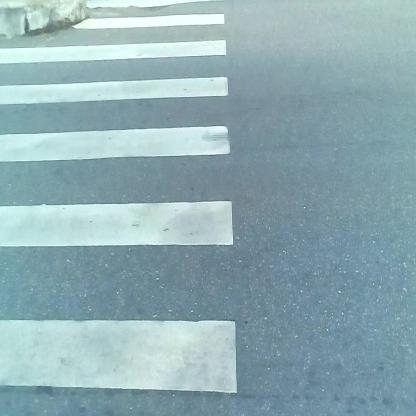crosswalk: (5, 16, 246, 416)
